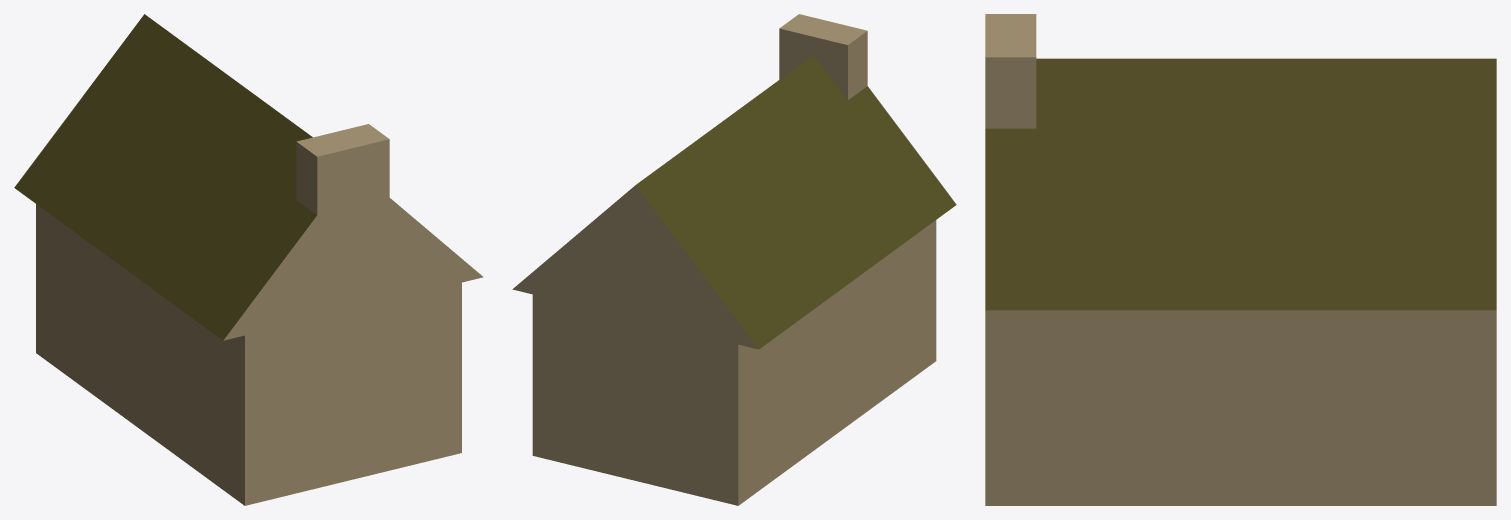
The model's file is simplehouse.fbx.
3 views of the same model, side by side, from view 1: azimuth 30°, elevation 25°; view 2: azimuth 150°, elevation 25°; view 3: azimuth 270°, elevation 25° (orthographic). The views are drawn at different scales.
Visible parts, largest first — view 1: simplehouse; view 2: simplehouse; view 3: simplehouse.
Part boxes in pixels (x1=…): simplehouse: x1=14, y1=14, x2=483, y2=505; simplehouse: x1=512, y1=14, x2=956, y2=505; simplehouse: x1=985, y1=14, x2=1496, y2=505.
Size of the model in its own units: 7.2 by 10 by 8.75.
